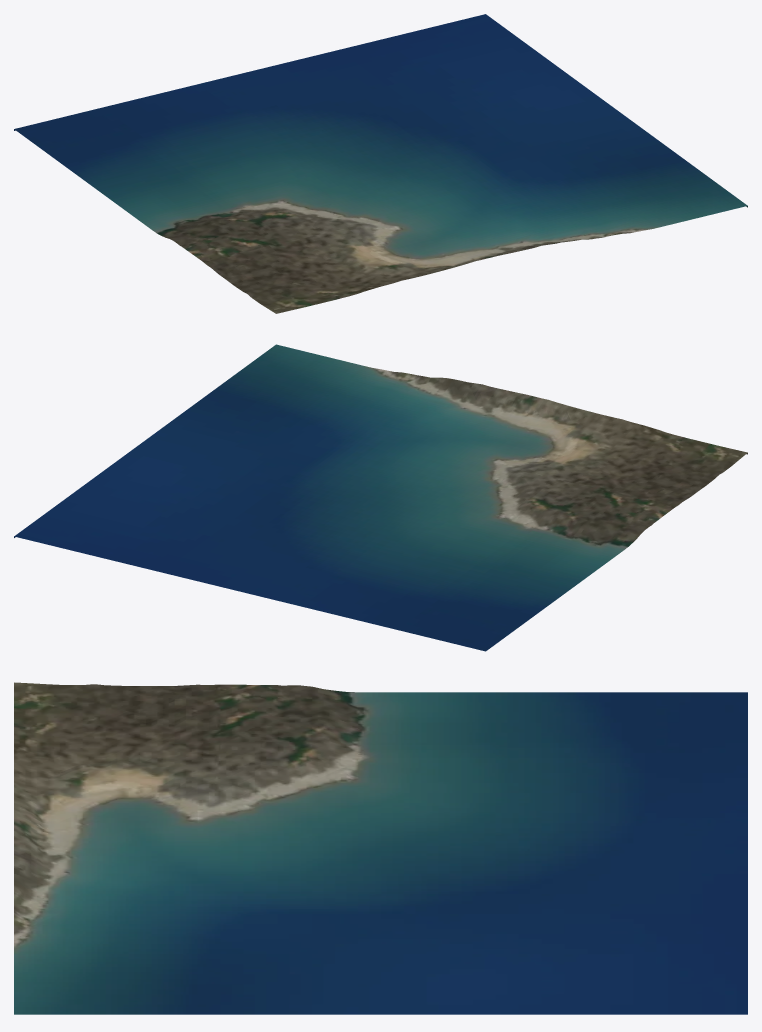
3 views of the same model, one above another, from view 1: azimuth 30°, elevation 25°; view 2: azimuth 150°, elevation 25°; view 3: azimuth 270°, elevation 25° (orthographic). The views are drawn at different scales.
Bounding box in the file's own units: 250 × 6.68 × 241.
Materials: 1 (1 with a texture image).
